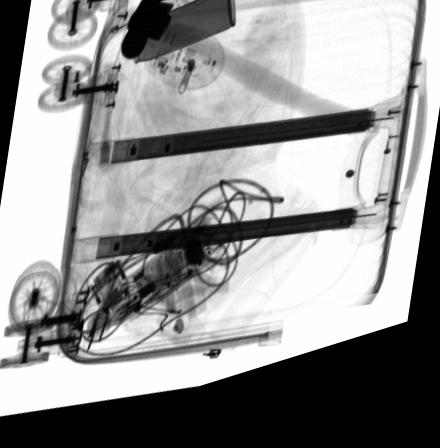Hammer: (120, 0, 360, 158)
